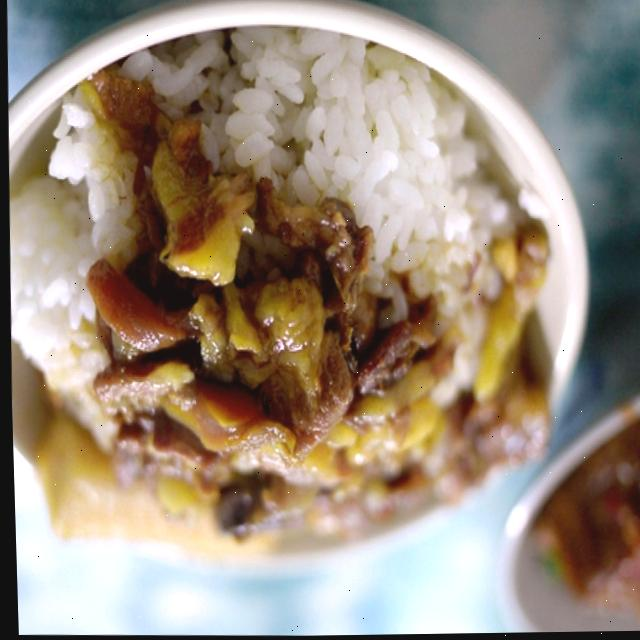猪肉菜式: (0, 2, 575, 585)
